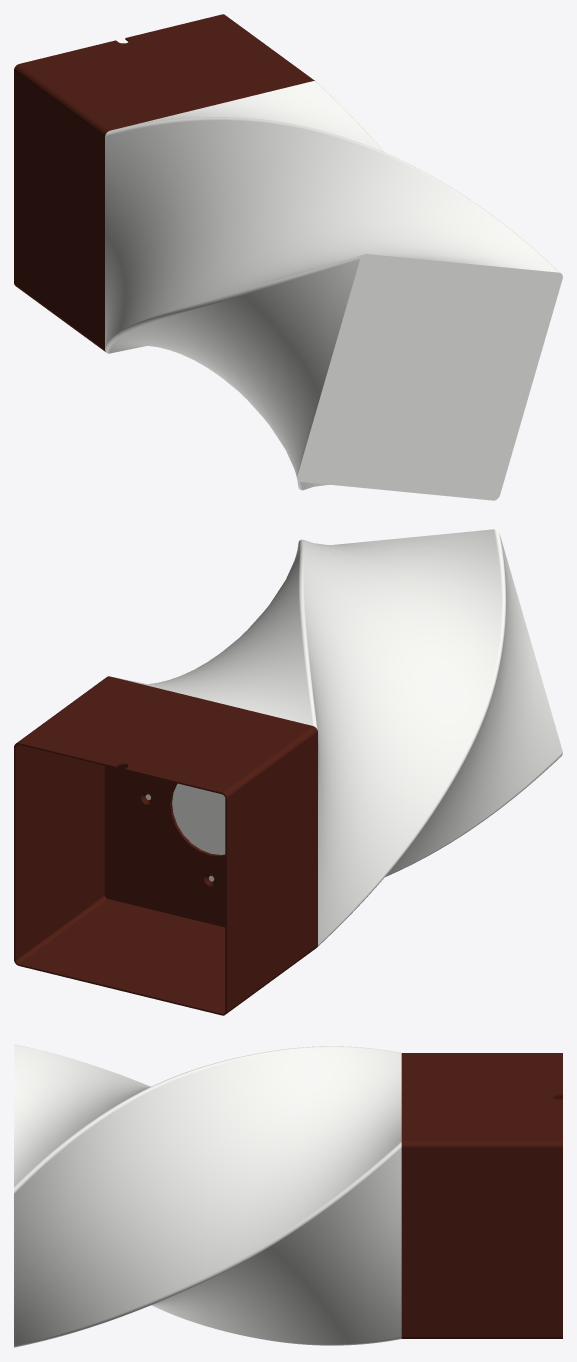
The model's file is snurrande_lampa.obj.
3 renders of one model, top to bottom at view 1: azimuth 30°, elevation 25°; view 2: azimuth 150°, elevation 25°; view 3: azimuth 270°, elevation 25°, orthographic. The views are drawn at different scales.
Visible parts, largest first — view 1: Shade, Bottom; view 2: Shade, Bottom; view 3: Shade, Bottom.
Part boxes in pixels (x1,y1,x2,y2): Shade: [105, 81, 562, 500]; Bottom: [14, 14, 314, 351]; Shade: [114, 529, 562, 947]; Bottom: [14, 676, 317, 1015]; Shade: [14, 1044, 401, 1347]; Bottom: [401, 1053, 562, 1338].
Bounding box in the file's own units: 19.03 × 19.03 × 34.
